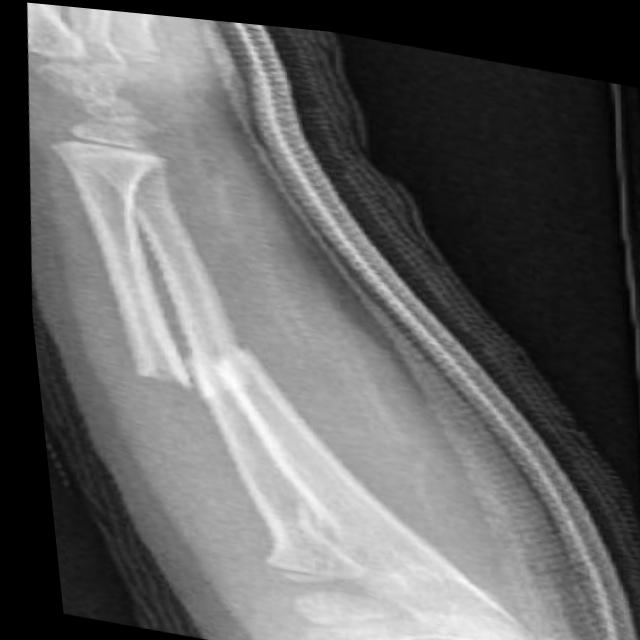fracture: (111, 324, 274, 409)
